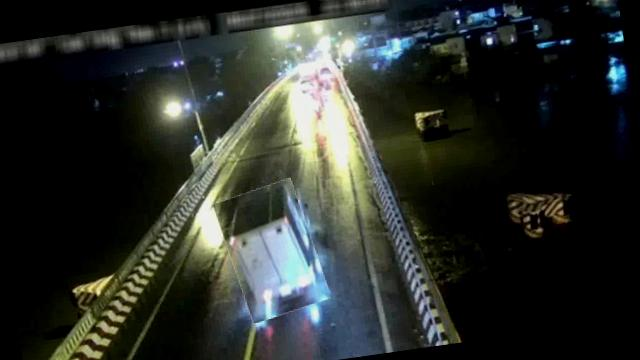Truck: (216, 178, 327, 323)
